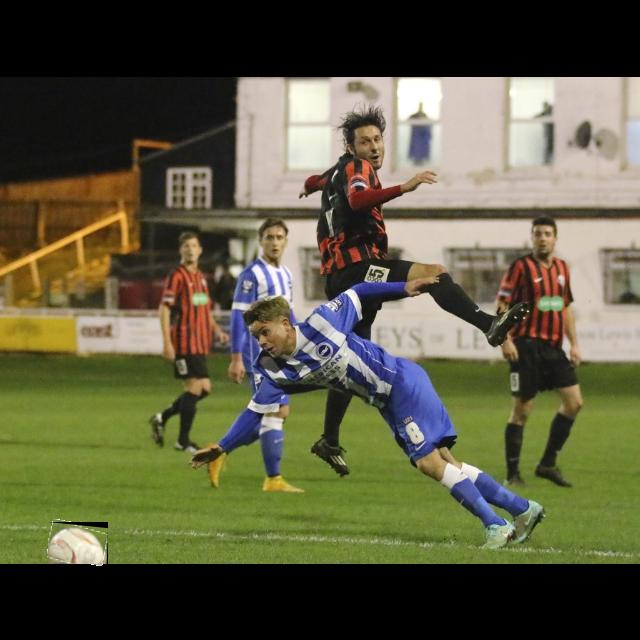Football: (48, 522, 108, 564)
